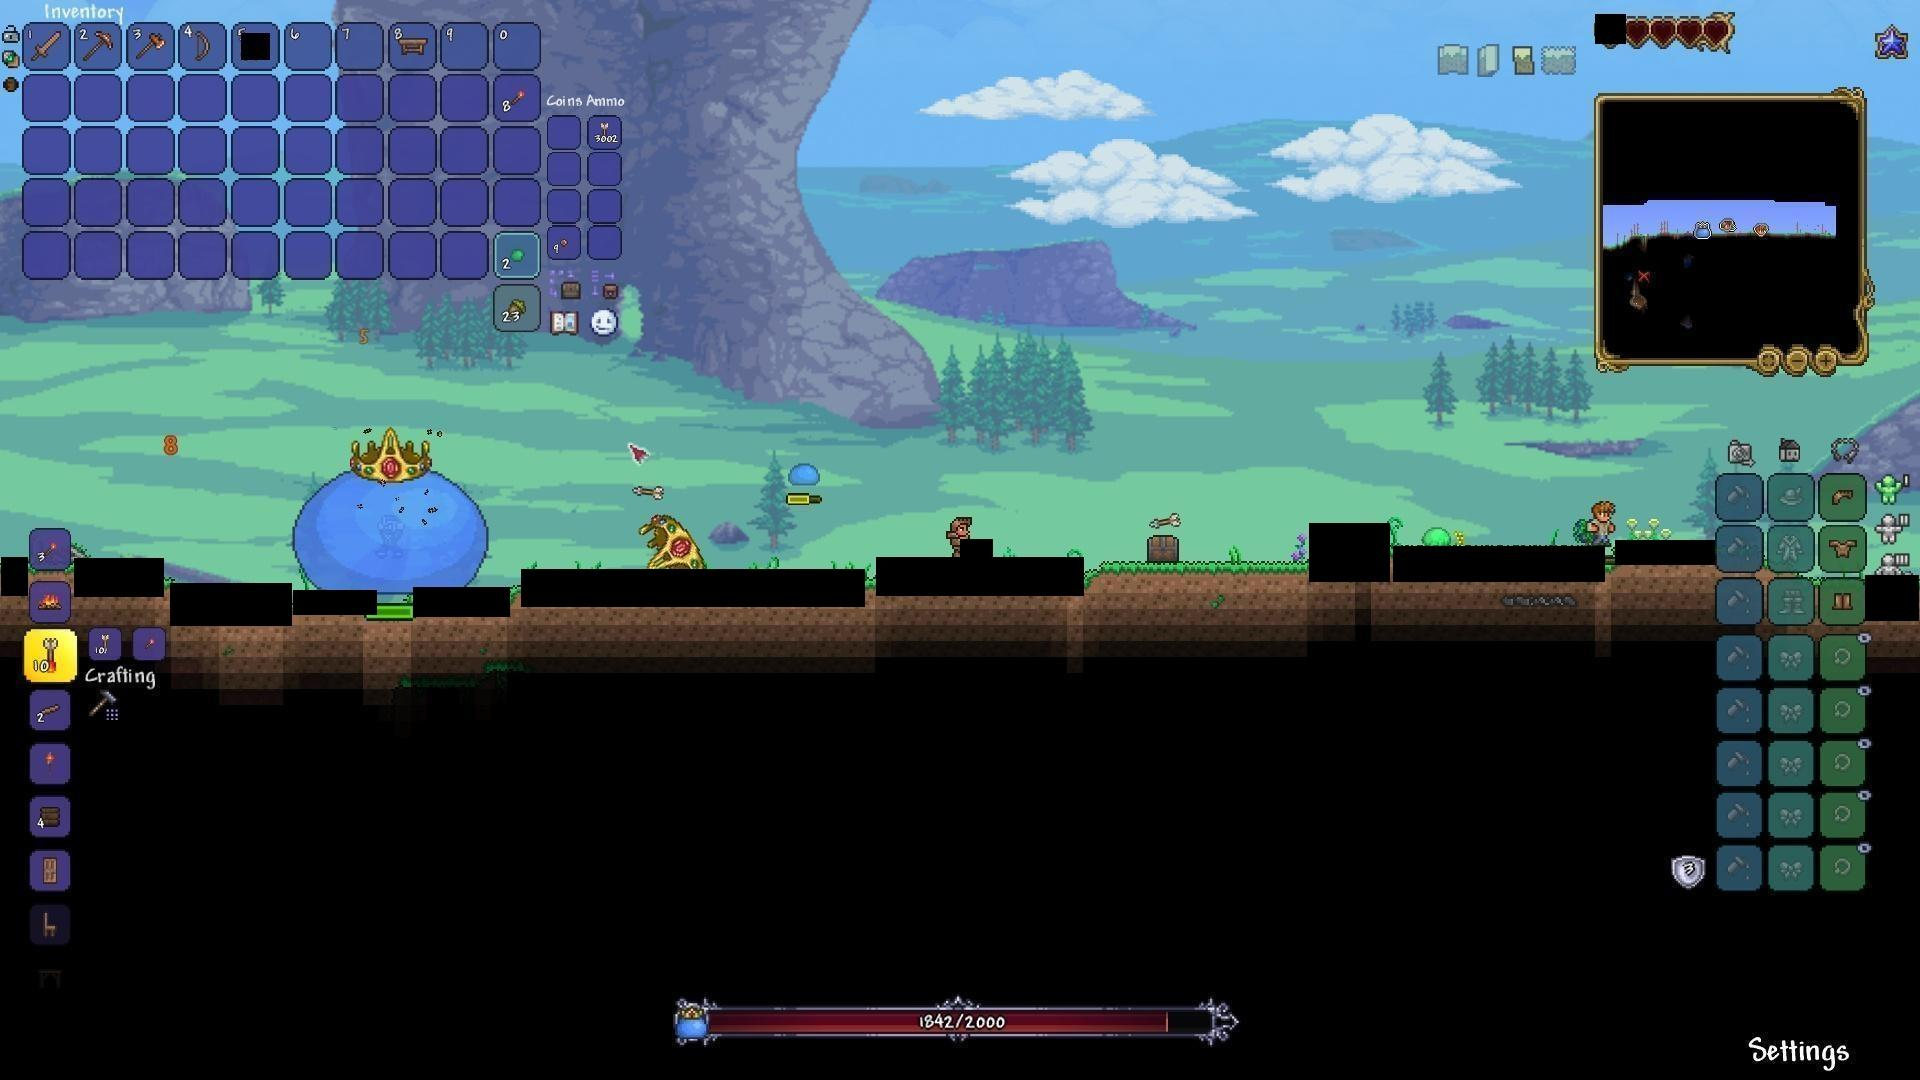breastplate: (1829, 537, 1859, 559)
dirt: (1093, 558, 1307, 587)
helmet: (1828, 483, 1858, 510)
legs: (1832, 588, 1855, 617)
slime: (786, 462, 825, 489), (1420, 527, 1455, 553)
workbench: (394, 36, 431, 61)
